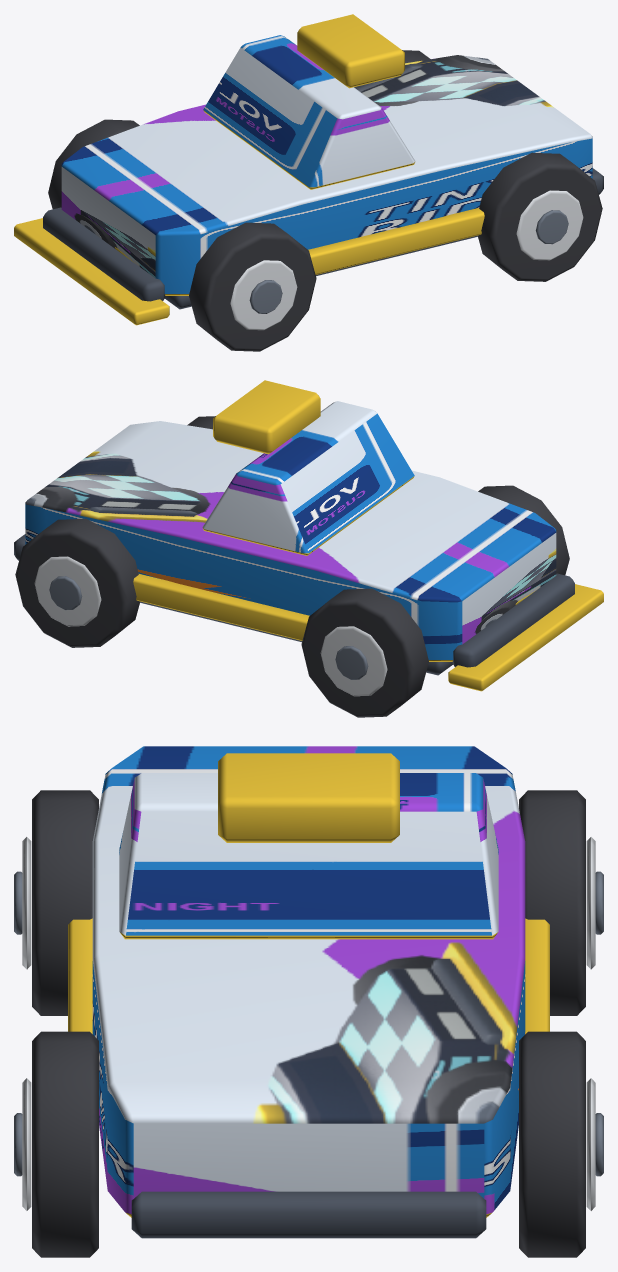
3 renders of one model, top to bottom at view 1: azimuth 30°, elevation 25°; view 2: azimuth 150°, elevation 25°; view 3: azimuth 270°, elevation 25°, orthographic. The views are drawn at different scales.
Visible parts, largest first — view 1: FF-03_connected_shell, FF-03_cabin, Tire, Tire.002, custom equipment, custom side guard, custom chin, front bumper, Rim.002, Rim, Tire.001, Hub.002 (+2 smaller); view 2: FF-03_connected_shell, FF-03_cabin, Tire.001, Tire.003, custom equipment, custom side guard.001, custom chin, front bumper, Rim.003, Rim.001, Tire, Hub.003 (+2 smaller); view 3: FF-03_connected_shell, FF-03_cabin, rear bumper, custom equipment, Tire.002, Tire.003, Tire, Tire.001, custom side guard, custom side guard.001, Rim.002, Rim.003 (+2 smaller).
Boxes of the visible parts, x1=… form: FF-03_connected_shell: x1=61, y1=55, x2=592, y2=295; FF-03_cabin: x1=203, y1=35, x2=415, y2=189; Tire: x1=189, y1=222, x2=316, y2=351; Tire.002: x1=477, y1=152, x2=602, y2=281; custom equipment: x1=297, y1=14, x2=404, y2=88; custom side guard: x1=308, y1=208, x2=484, y2=274; custom chin: x1=14, y1=218, x2=169, y2=325; front bumper: x1=43, y1=207, x2=165, y2=301; Rim.002: x1=516, y1=190, x2=583, y2=260; Rim: x1=230, y1=260, x2=297, y2=330; Tire.001: x1=48, y1=119, x2=139, y2=209; Hub.002: x1=535, y1=210, x2=568, y2=244; FF-03_connected_shell: x1=25, y1=421, x2=556, y2=661; FF-03_cabin: x1=202, y1=401, x2=414, y2=555; Tire.001: x1=301, y1=588, x2=428, y2=717; Tire.003: x1=15, y1=518, x2=140, y2=647; custom equipment: x1=213, y1=380, x2=320, y2=454; custom side guard.001: x1=133, y1=574, x2=309, y2=640; custom chin: x1=448, y1=584, x2=603, y2=691; front bumper: x1=452, y1=573, x2=574, y2=667; Rim.003: x1=34, y1=556, x2=101, y2=626; Rim.001: x1=320, y1=626, x2=387, y2=696; Tire: x1=478, y1=485, x2=569, y2=575; Hub.003: x1=49, y1=576, x2=82, y2=610; FF-03_connected_shell: x1=92, y1=746, x2=525, y2=1217; FF-03_cabin: x1=119, y1=773, x2=498, y2=939; rear bumper: x1=131, y1=1191, x2=486, y2=1238; custom equipment: x1=218, y1=753, x2=399, y2=842; Tire.002: x1=32, y1=1031, x2=98, y2=1257; Tire.003: x1=519, y1=1031, x2=585, y2=1257; Tire: x1=32, y1=790, x2=98, y2=1015; Tire.001: x1=519, y1=790, x2=585, y2=1015; custom side guard: x1=68, y1=918, x2=92, y2=1033; custom side guard.001: x1=525, y1=918, x2=549, y2=1033; Rim.002: x1=22, y1=1078, x2=31, y2=1210; Rim.003: x1=586, y1=1078, x2=595, y2=1210.
Bounding box in the file's own units: 373 × 160 × 229.
